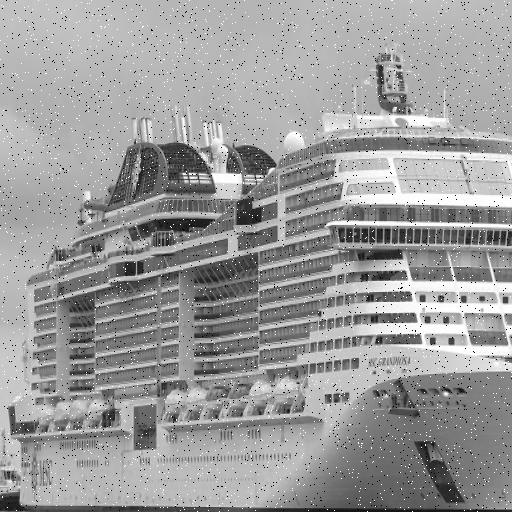cruises: (7, 49, 512, 512)
